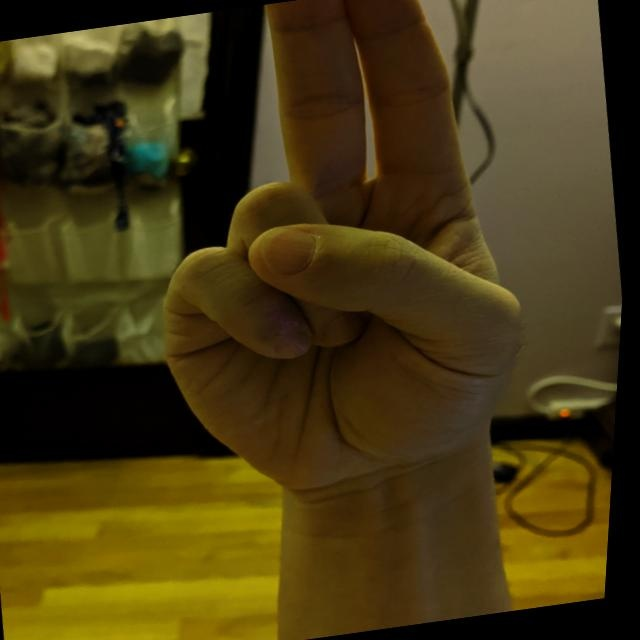U: (103, 0, 573, 517)
